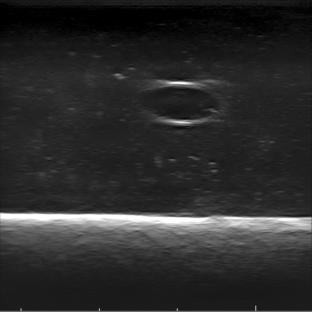vessel: (137, 80, 221, 125)
